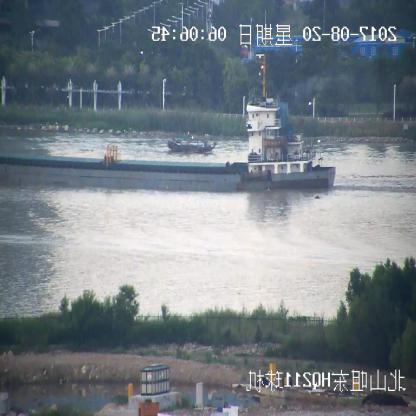Bulk Carrier: (1, 81, 335, 193)
